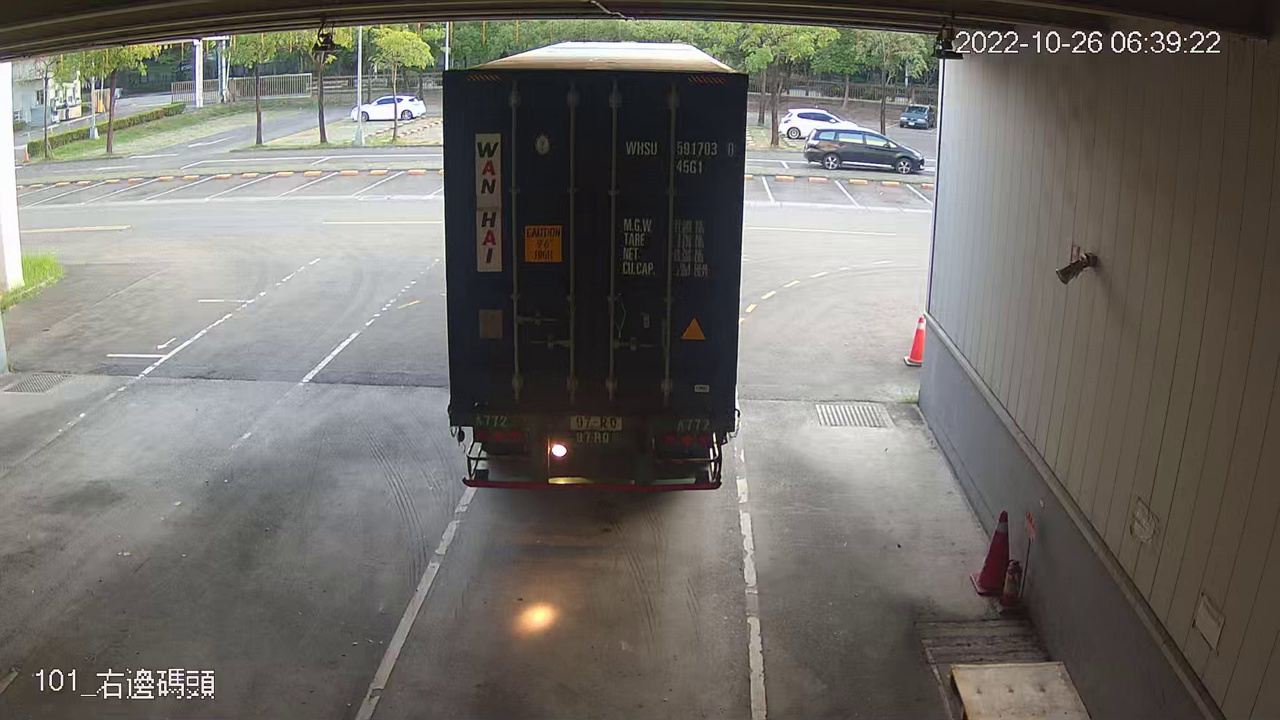container: (619, 135, 739, 182)
